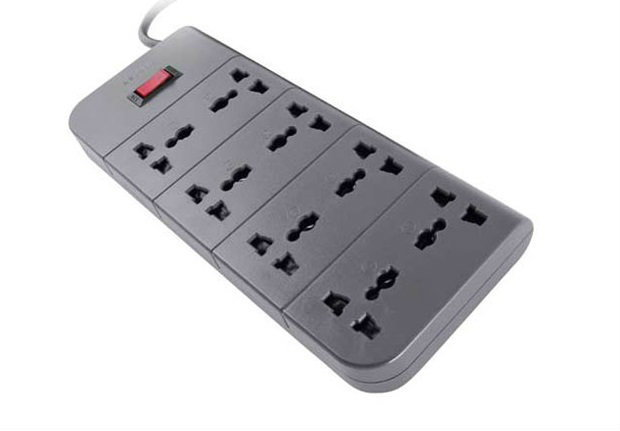Three_eye_plug: (62, 20, 544, 405)
